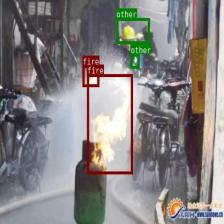fire: (87, 74, 132, 174), (82, 65, 99, 86)
